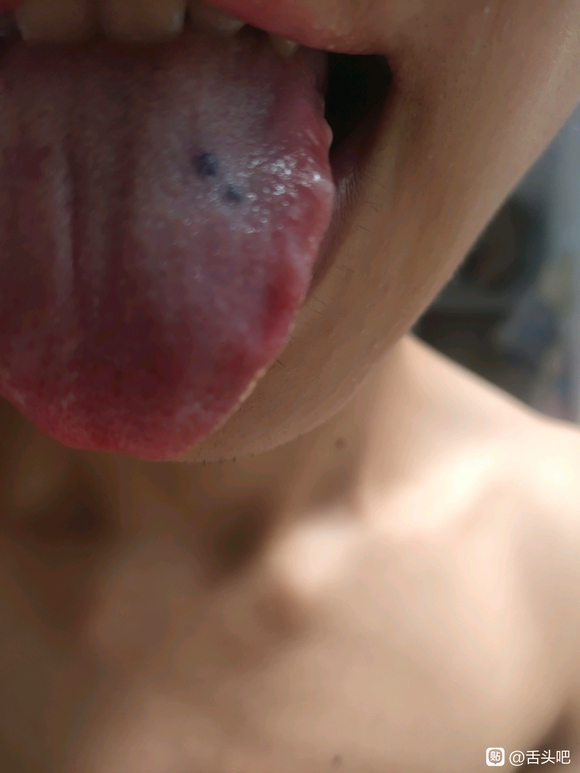baitaishe: (1, 35, 332, 458)
chihenshe: (262, 183, 332, 368)
hongshe: (1, 35, 332, 458)
liewenshe: (67, 151, 85, 296)
